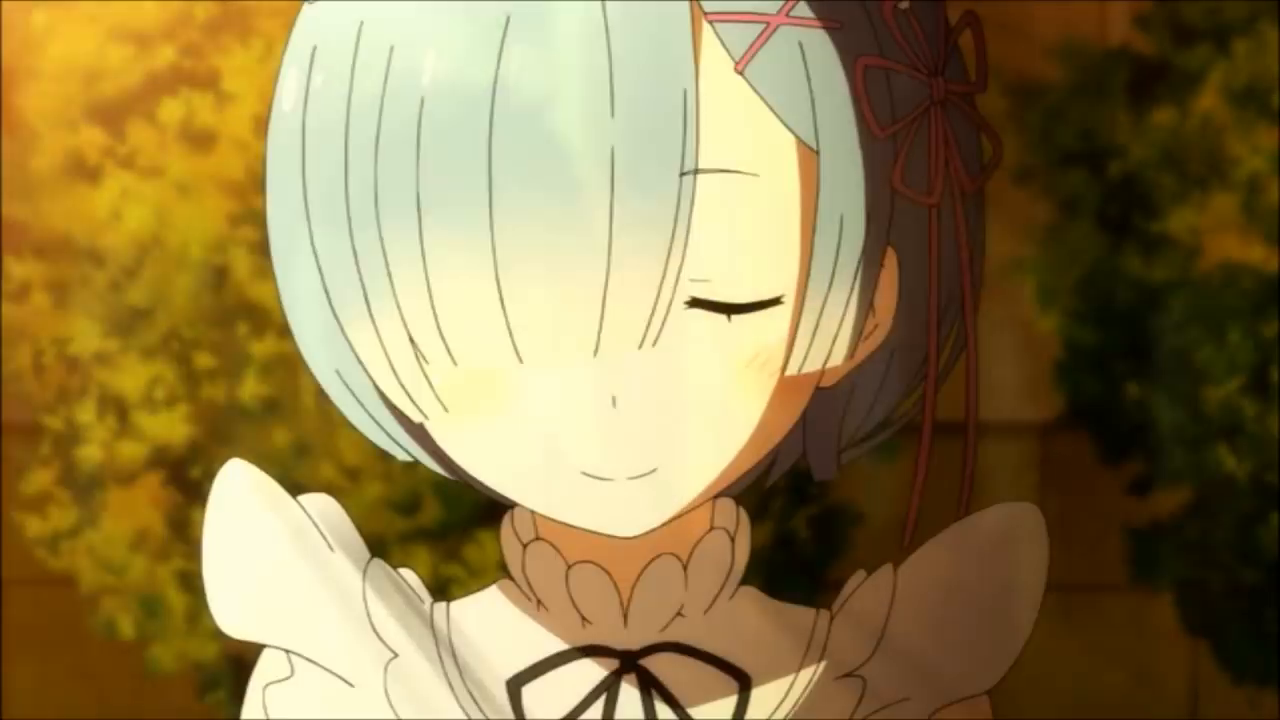REM: (259, 6, 993, 547)
